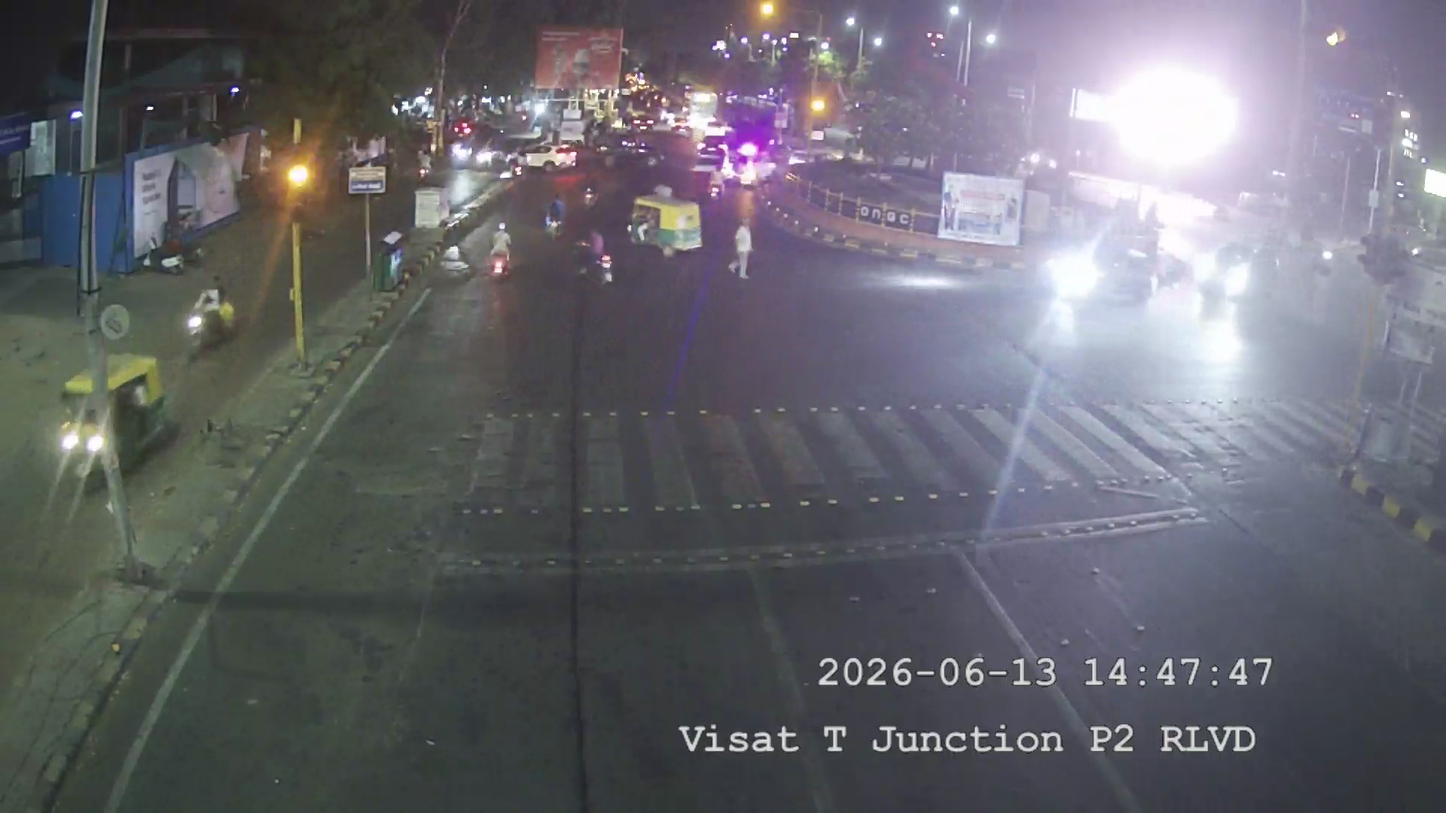auto_rickshaw: (53, 350, 174, 471), (627, 195, 705, 252)
car: (344, 160, 389, 195), (545, 142, 581, 169)
pedestrian: (724, 216, 759, 286), (380, 226, 410, 291)
two_wheeler: (180, 275, 240, 352), (581, 224, 619, 285), (484, 217, 516, 281), (432, 231, 472, 281), (540, 191, 567, 240), (1311, 233, 1339, 278)
